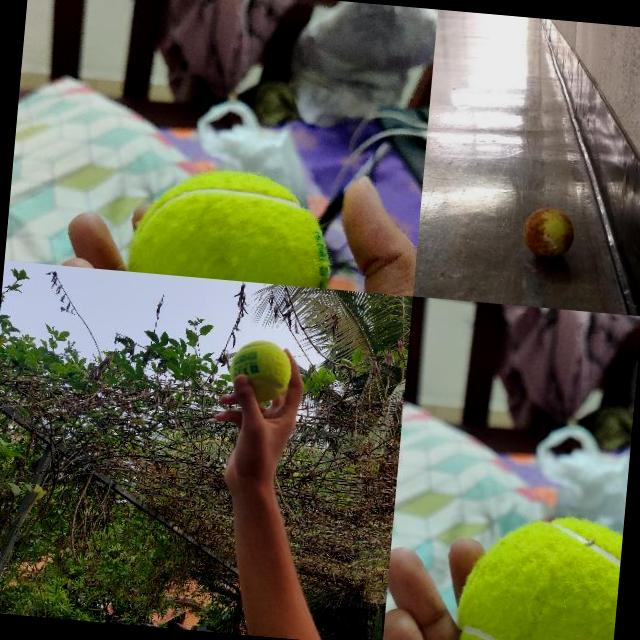Tennis Ball: (126, 162, 340, 288), (452, 504, 623, 640), (227, 338, 294, 404), (520, 204, 576, 260)
